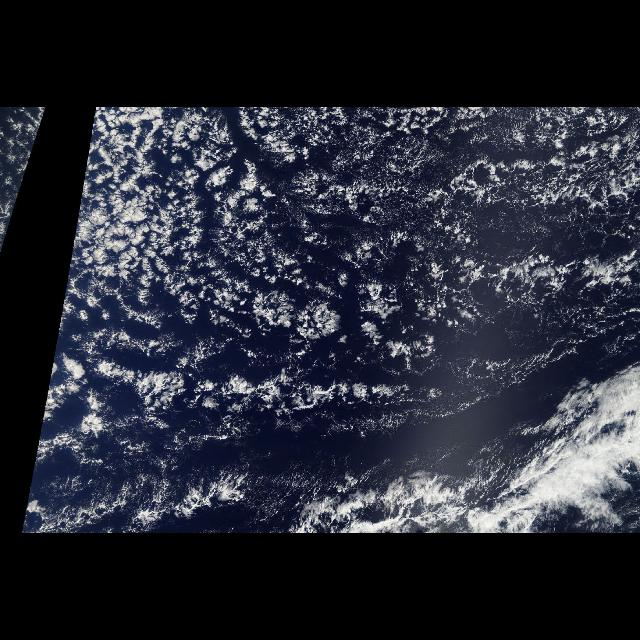Fish: (330, 382, 634, 534)
Gravel: (88, 107, 640, 375)
